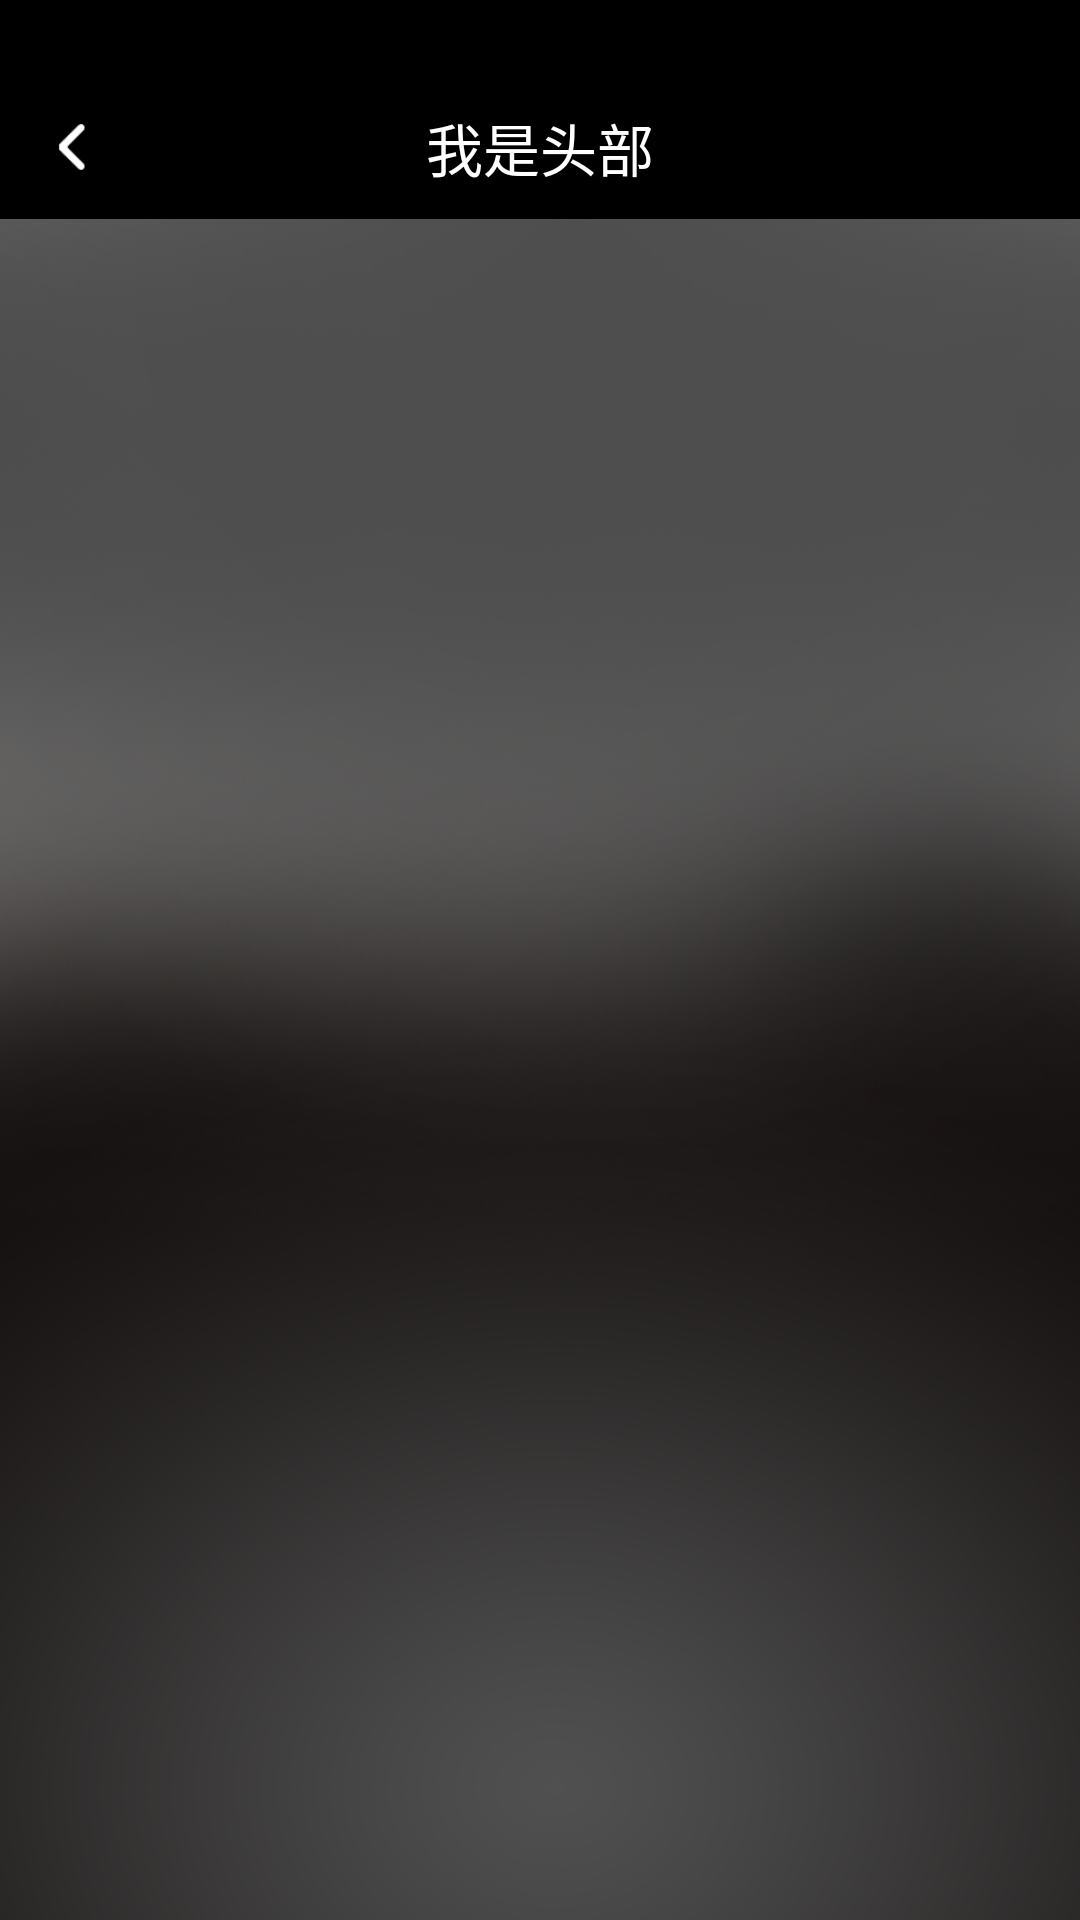

Icon bounding boxes for this 1080*1920 phone screenshot, format (x1,y1,x2,y2):
title back: (59,124,85,170)
